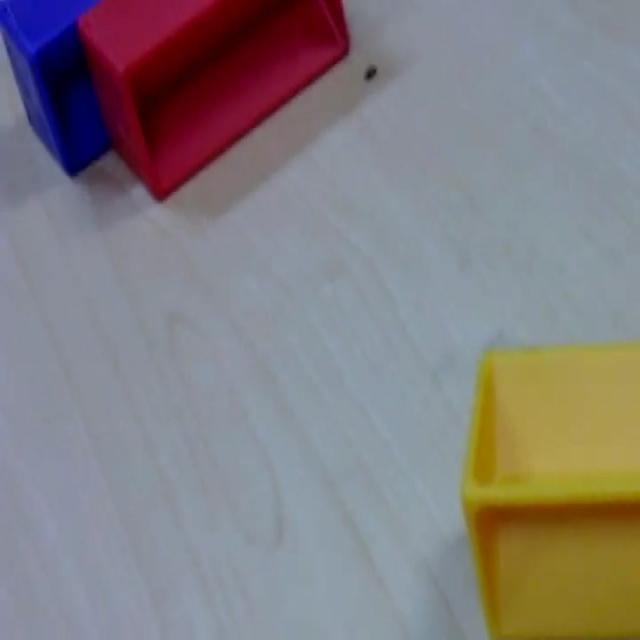red_block: (76, 0, 350, 203)
yellow_block: (461, 339, 638, 636)
